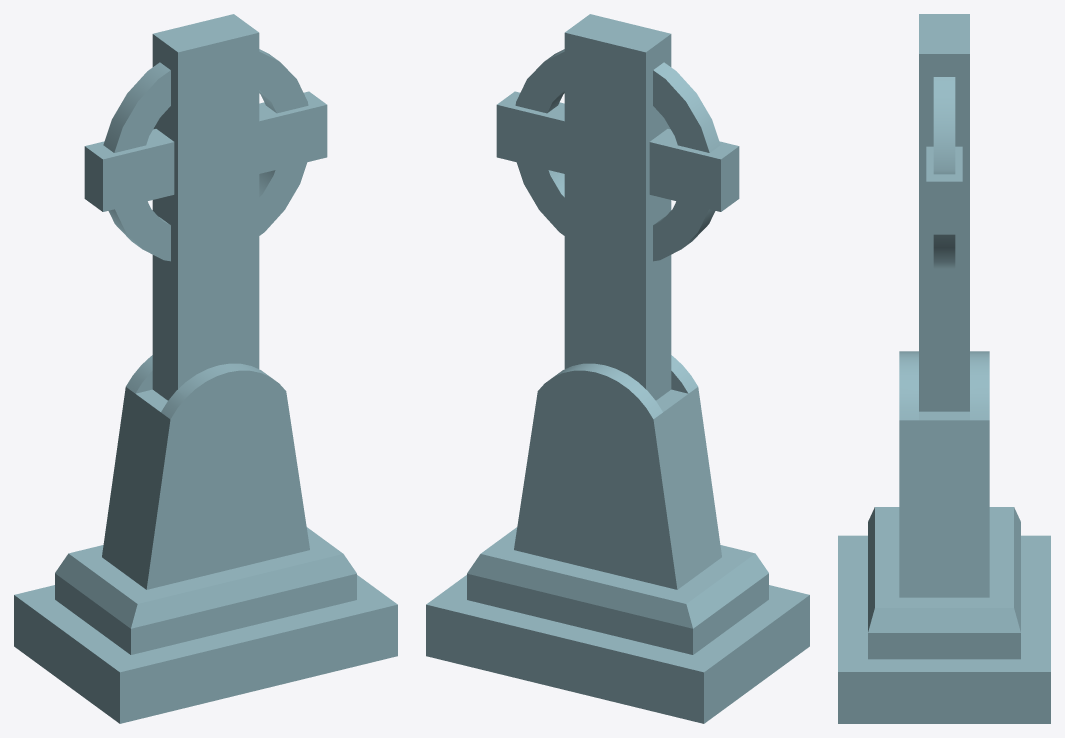
The model's file is gravestoneCrossLarge.dae.
3 views of the same model, side by side, from view 1: azimuth 30°, elevation 25°; view 2: azimuth 150°, elevation 25°; view 3: azimuth 270°, elevation 25° (orthographic).
Visible parts, largest first — view 1: gravestoneCrossLarge; view 2: gravestoneCrossLarge; view 3: gravestoneCrossLarge.
Boxes of the visible parts, x1,y1,x2,y2 form: gravestoneCrossLarge: (14, 14, 397, 723); gravestoneCrossLarge: (426, 14, 809, 723); gravestoneCrossLarge: (838, 14, 1050, 723).
Size of the model in its own units: 0.4415 by 0.9383 by 0.2913.
